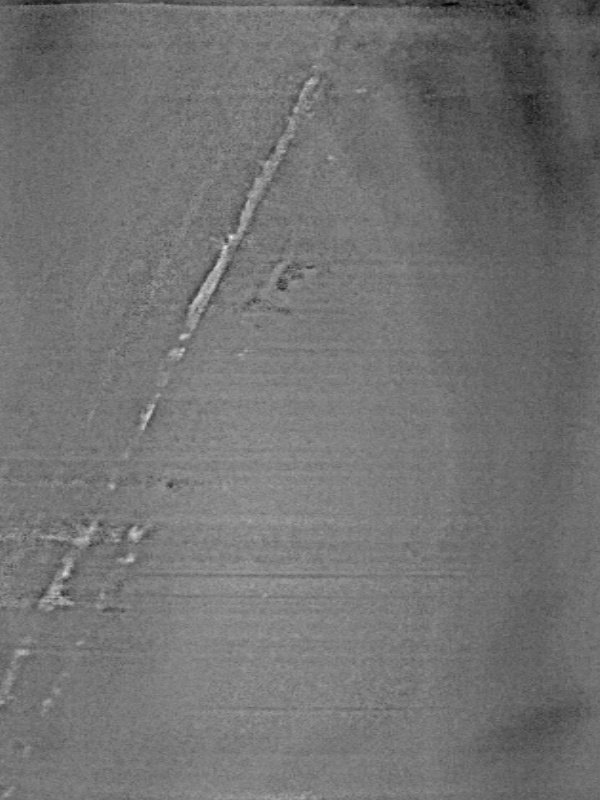splice_vulcanized: (1, 5, 382, 788)
